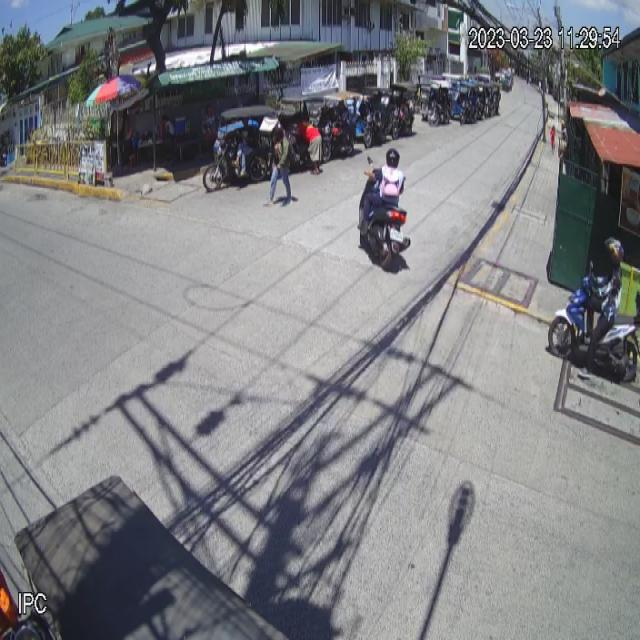Motorcycle: (545, 261, 640, 388), (357, 155, 411, 269)
